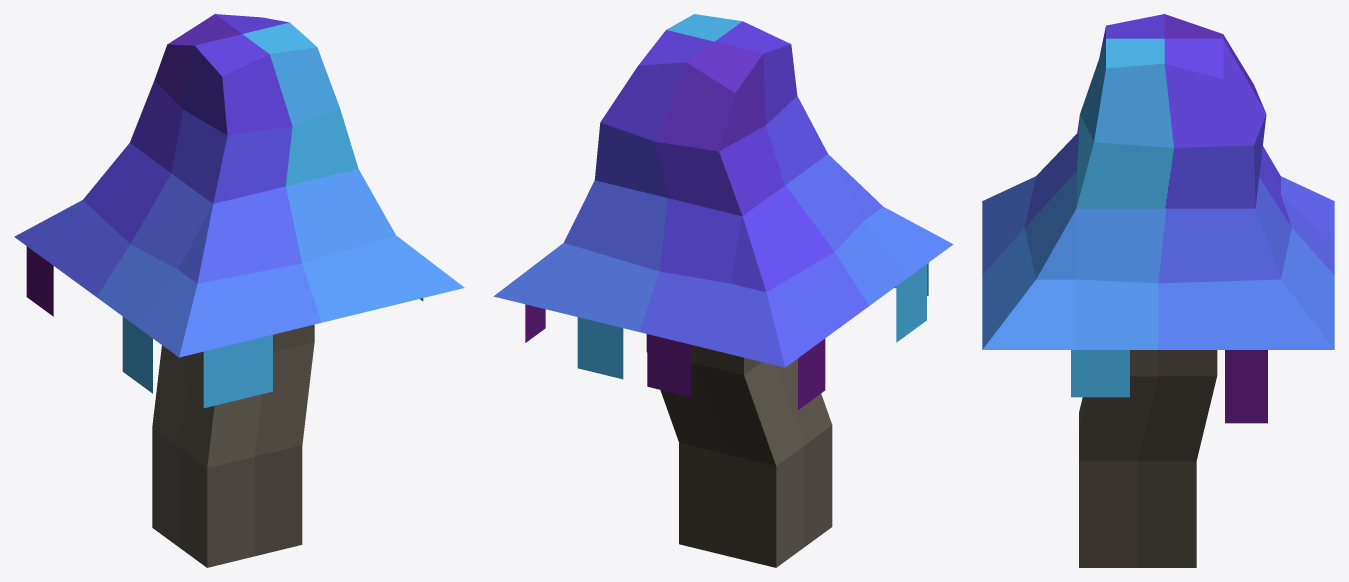
Rendered from mushroom.obj.
3 renders of one model, left to right at view 1: azimuth 30°, elevation 25°; view 2: azimuth 150°, elevation 25°; view 3: azimuth 270°, elevation 25°, orthographic. The views are drawn at different scales.
Parts seen in each view (by area): view 1: Mushroom_Cube.005; view 2: Mushroom_Cube.005; view 3: Mushroom_Cube.005.
Part boxes in pixels (x1,y1,x2,y2): Mushroom_Cube.005: [14, 14, 464, 567]; Mushroom_Cube.005: [493, 14, 953, 567]; Mushroom_Cube.005: [982, 14, 1334, 567].
Bounding box in the file's own units: 0.1875 × 0.3047 × 0.1875.
